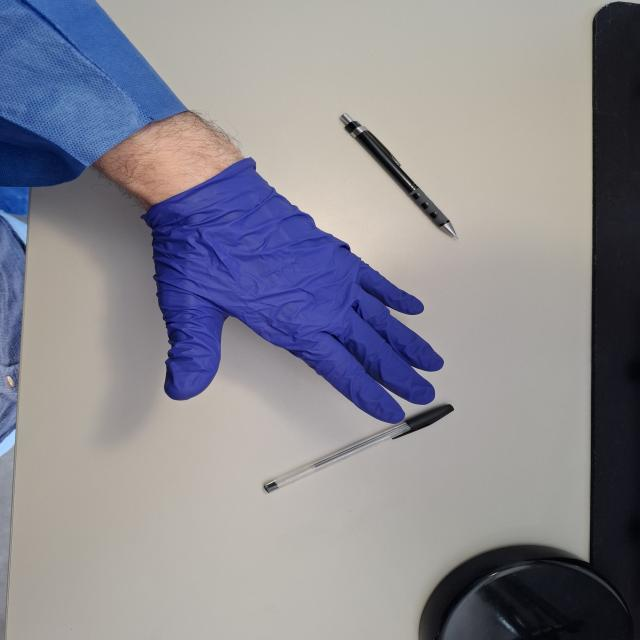glove_on: (136, 156, 445, 428)
